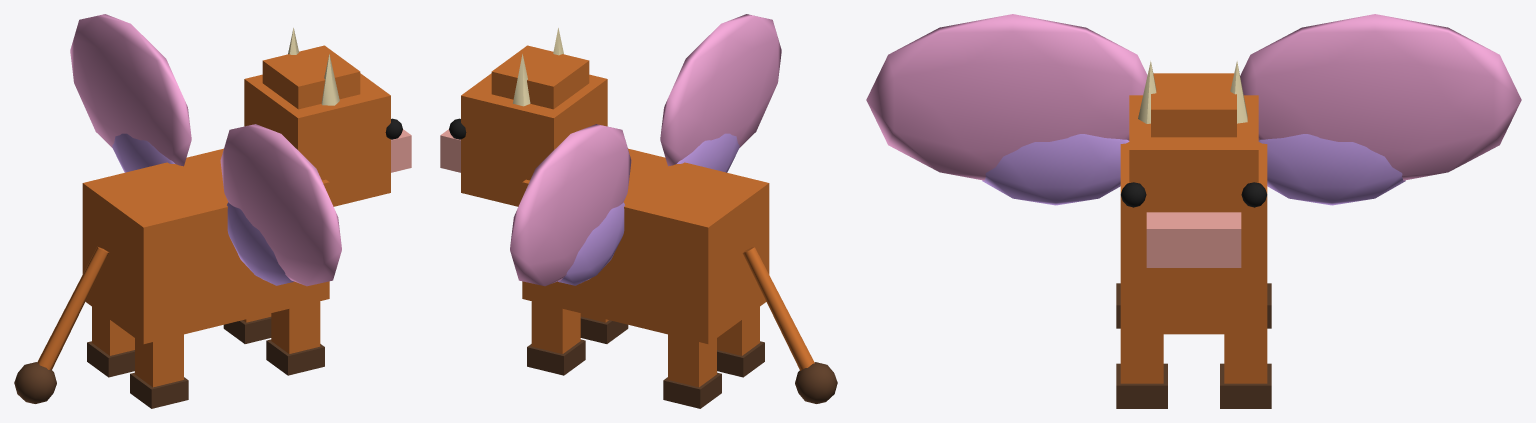
The model's file is level1.glb.
3 views of the same model, side by side, from view 1: azimuth 30°, elevation 25°; view 2: azimuth 150°, elevation 25°; view 3: azimuth 270°, elevation 25° (orthographic). The views are drawn at different scales.
Parts seen in each view (by area): view 1: object 1, wingL, wingR, object 12, object 18, object 6, object 10, object 2, object 3, object 11, object 7, object 4 (+4 smaller); view 2: object 1, wingR, wingL, object 12, object 18, object 8, object 4, object 2, object 3, object 9, object 5, object 6 (+4 smaller); view 3: wingR, wingL, object 12, object 1, object 18, object 13, object 8, object 10, object 9, object 11.
Part boxes in pixels (x1,y1,x2,y2): object 1: (82,148,329,344); wingL: (220,124,341,286); wingR: (70,14,191,172); object 12: (244,73,390,206); object 18: (262,45,360,109); object 6: (135,321,183,387); object 10: (271,288,320,353); object 2: (37,246,109,369); object 3: (14,362,56,403); object 11: (266,339,324,375); object 7: (130,372,188,408); object 4: (92,307,134,355); object 1: (522,148,769,344); wingR: (510,124,631,286); wingL: (660,14,781,172); object 12: (461,73,607,206); object 18: (491,45,589,109); object 8: (531,288,580,353); object 4: (668,323,716,387); object 2: (742,247,814,370); object 3: (795,362,837,403); object 9: (527,339,585,375); object 5: (663,372,721,408); object 6: (717,307,759,355); wingR: (1240,14,1521,205); wingL: (866,14,1147,205); object 12: (1129,95,1258,267); object 1: (1120,142,1267,334); object 18: (1151,73,1236,137); object 13: (1146,212,1241,267); object 8: (1224,334,1267,383); object 10: (1120,334,1163,383); object 9: (1220,363,1271,408); object 11: (1116,363,1167,408).
Bounding box in the file's own units: 1.21 × 0.92 × 1.52.
